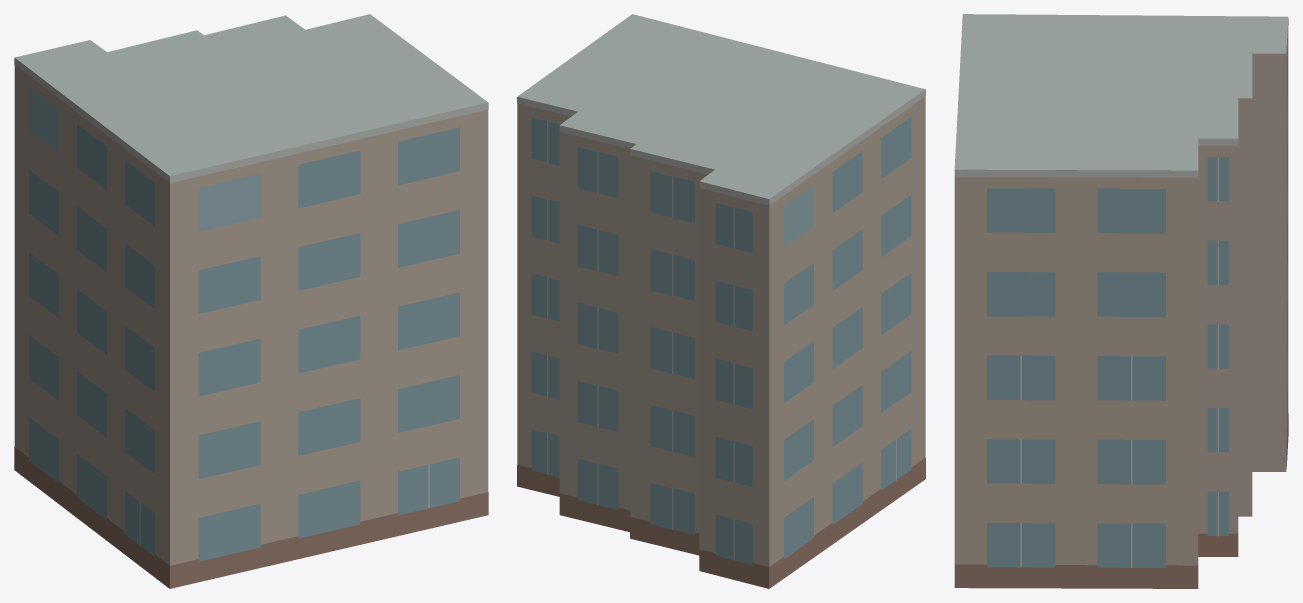
File: survey-upis-32631260.glb
The picture shows the model from 3 angles, left to right: view 1: azimuth 30°, elevation 25°; view 2: azimuth 150°, elevation 25°; view 3: azimuth 270°, elevation 25°; orthographic projection. The views are drawn at different scales.
Visible parts, largest first — view 1: survey-upis-32631260.tmp; view 2: survey-upis-32631260.tmp; view 3: survey-upis-32631260.tmp.
Part boxes in pixels (bbox=[...]): survey-upis-32631260.tmp: bbox=[14, 14, 488, 588]; survey-upis-32631260.tmp: bbox=[517, 14, 925, 588]; survey-upis-32631260.tmp: bbox=[954, 14, 1288, 588].
Size of the model in its own units: 11.49 by 14.3 by 10.35.
